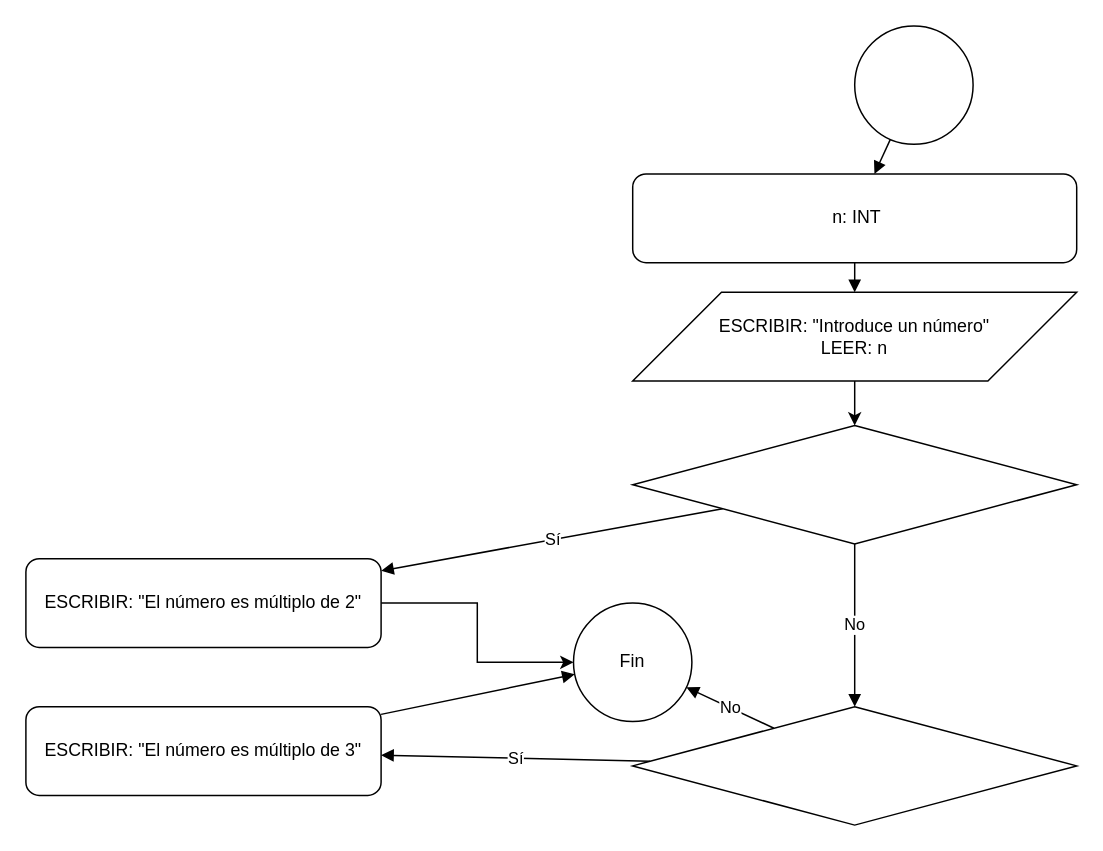
The diagram is 1103 pixels wide and 851 high, and some of its shapes have lost their labels. Here are the shapes that lost their labels. From the top down, the centre of each, then its label:
(913,84): Inicio
(854,484): n % 2 = 0
(854,765): n % 3 = 0
